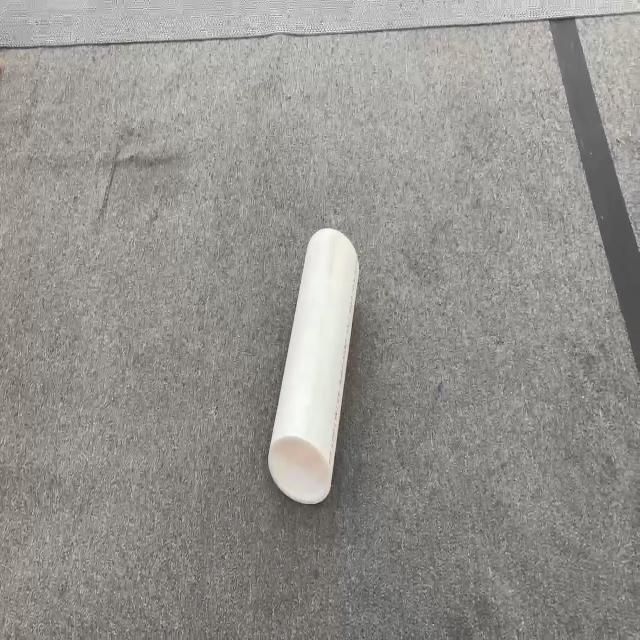coral: (266, 226, 360, 505)
